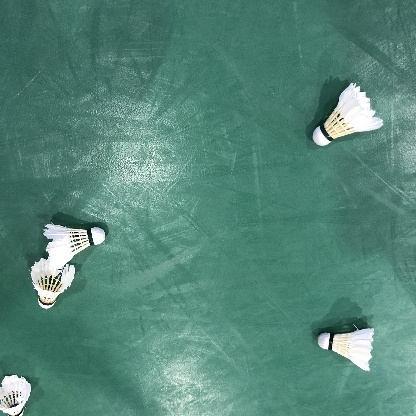ball_single: (312, 83, 384, 146), (43, 224, 105, 270), (318, 328, 374, 371), (30, 258, 75, 309), (0, 374, 31, 416)
